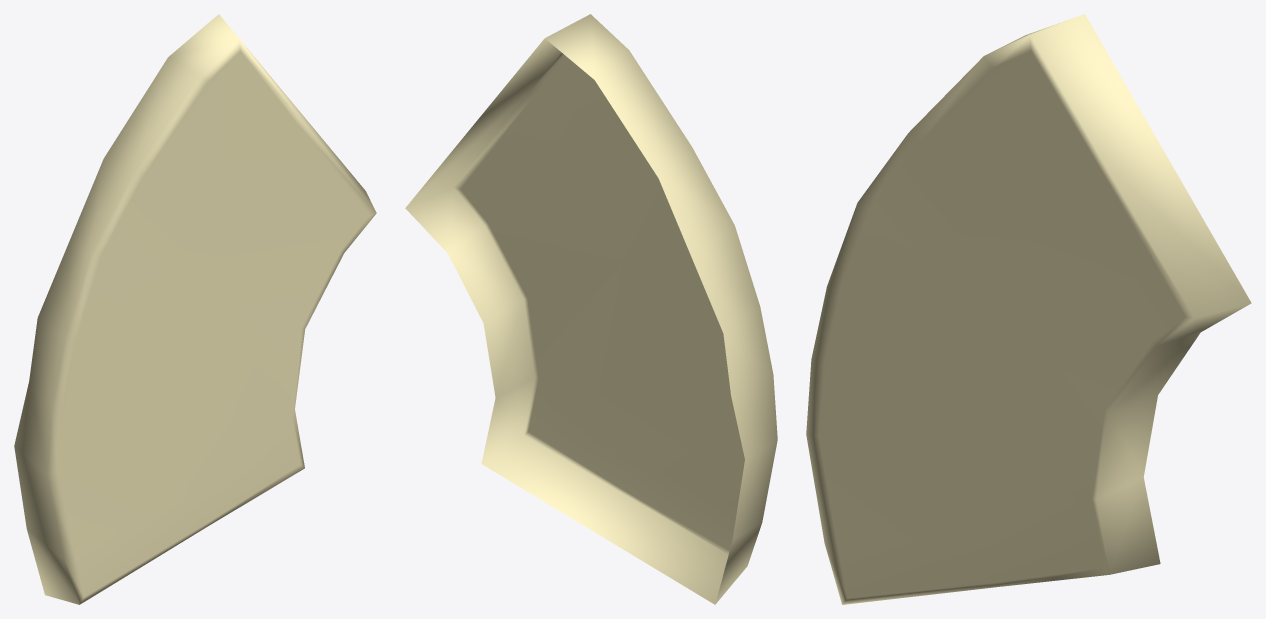
File: ui_radialMenu_5_topLeft.glb
3 renders of one model, left to right at view 1: azimuth 30°, elevation 25°; view 2: azimuth 150°, elevation 25°; view 3: azimuth 330°, elevation 25°, orthographic. The views are drawn at different scales.
Parts seen in each view (by area): view 1: main5_topLeft; view 2: main5_topLeft; view 3: main5_topLeft.
Part boxes in pixels (bbox=[...]): main5_topLeft: bbox=[14, 14, 376, 604]; main5_topLeft: bbox=[405, 14, 777, 604]; main5_topLeft: bbox=[806, 14, 1251, 604].
Size of the model in its own units: 0.7763 by 1.15 by 0.1319.
